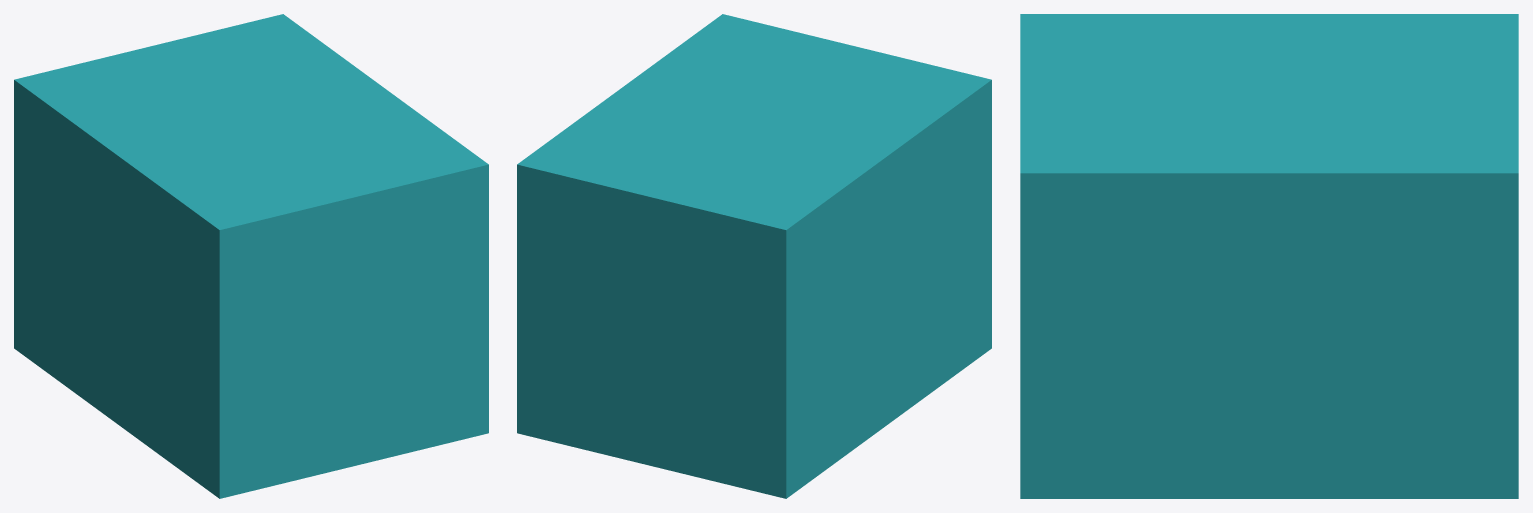
The model's file is dishwasher.glb.
3 views of the same model, side by side, from view 1: azimuth 30°, elevation 25°; view 2: azimuth 150°, elevation 25°; view 3: azimuth 270°, elevation 25° (orthographic). The views are drawn at different scales.
Parts seen in each view (by area): view 1: world; view 2: world; view 3: world.
Boxes of the visible parts, <box> form: world: <box>14,14,488,498</box>; world: <box>517,14,991,498</box>; world: <box>1020,14,1518,498</box>.
Size of the model in its own units: 0.65 by 0.6575 by 0.86.
